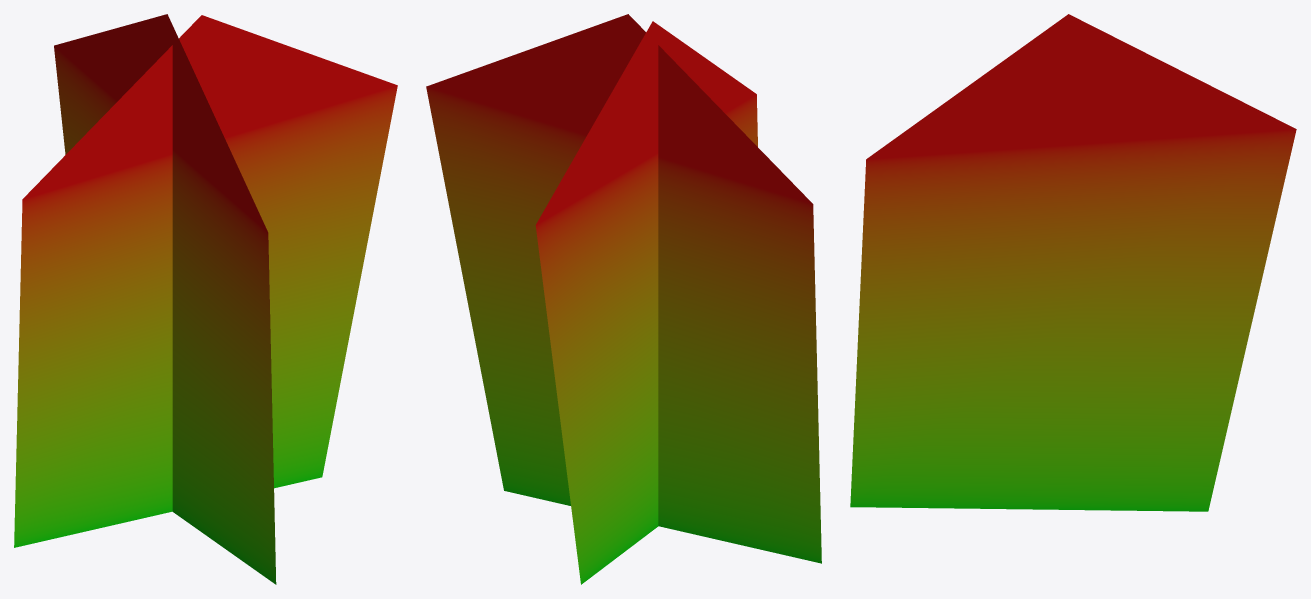
Rendered from Dead Shrubs_LOD4_Var3_vdknbbuha.fbx.
3 views of the same model, side by side, from view 1: azimuth 30°, elevation 25°; view 2: azimuth 150°, elevation 25°; view 3: azimuth 270°, elevation 25° (orthographic). The views are drawn at different scales.
Visible parts, largest first — view 1: _xnx8_Var3_LOD4; view 2: _xnx8_Var3_LOD4; view 3: _xnx8_Var3_LOD4.
Boxes of the visible parts, <box> form: _xnx8_Var3_LOD4: <box>14,14,397,584</box>; _xnx8_Var3_LOD4: <box>426,14,821,584</box>; _xnx8_Var3_LOD4: <box>850,14,1296,511</box>.
Size of the model in its own units: 37.84 by 46.73 by 37.98.
